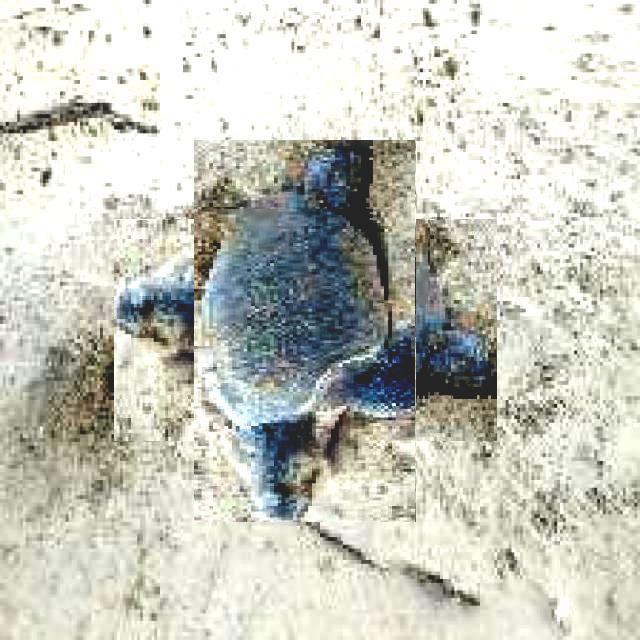Sea turtle: (154, 179, 457, 482)
